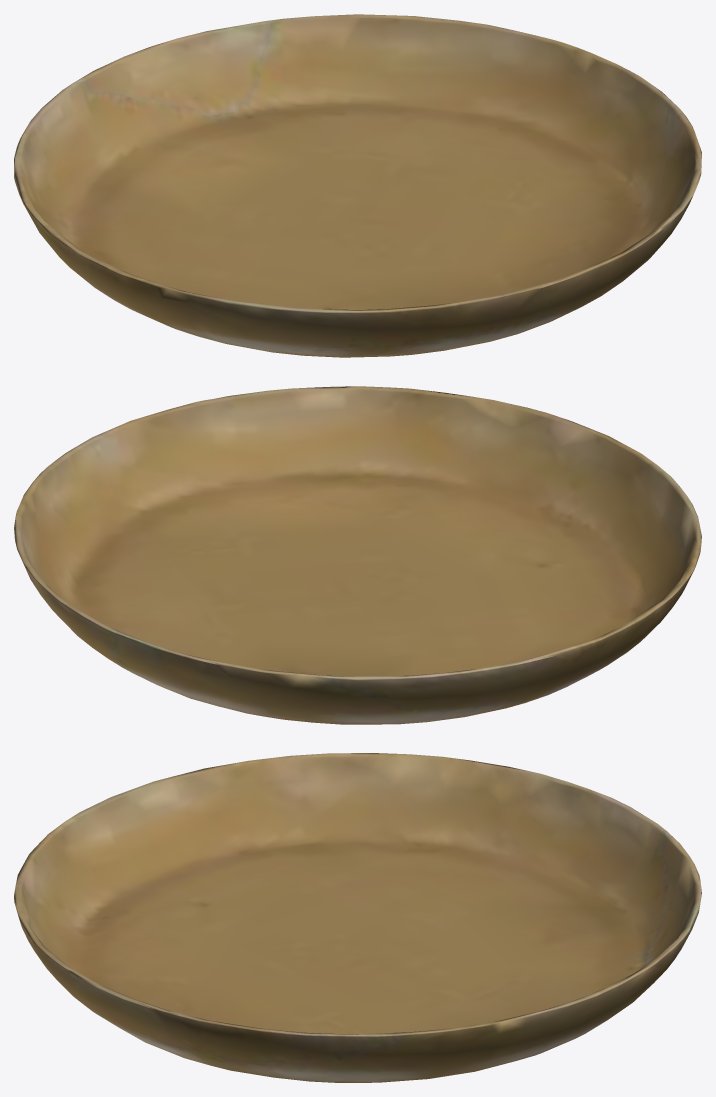
Rendered from Ecoforms_Plant_Container_S24NATURAL-high.glb.
The picture shows the model from 3 angles, top to bottom: view 1: azimuth 30°, elevation 25°; view 2: azimuth 150°, elevation 25°; view 3: azimuth 270°, elevation 25°; orthographic projection.
Parts seen in each view (by area): view 1: Ecoforms_Plant_Container_S24NATURAL; view 2: Ecoforms_Plant_Container_S24NATURAL; view 3: Ecoforms_Plant_Container_S24NATURAL.
Boxes of the visible parts, left/top/right/bottom form: Ecoforms_Plant_Container_S24NATURAL: left=14, top=14, right=701, bottom=357; Ecoforms_Plant_Container_S24NATURAL: left=14, top=386, right=701, bottom=724; Ecoforms_Plant_Container_S24NATURAL: left=14, top=753, right=701, bottom=1082.
Bounding box in the file's own units: 0.2413 × 0.0332 × 0.2408.
1 material, 1 textured.
